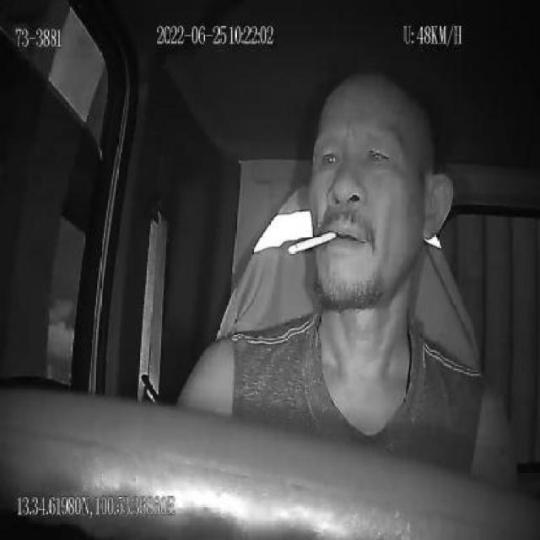smoking: (287, 228, 337, 256)
